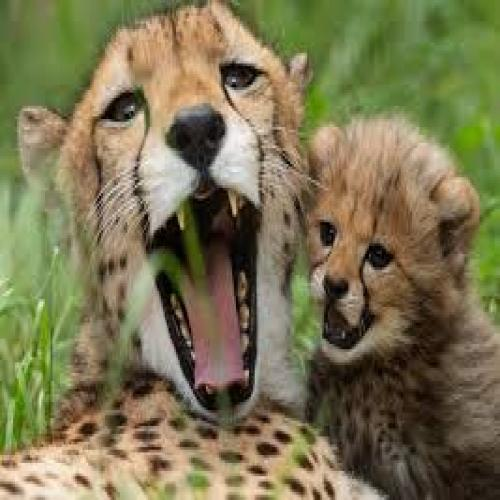cheetah-endangered: (0, 0, 348, 500), (305, 117, 500, 500)
